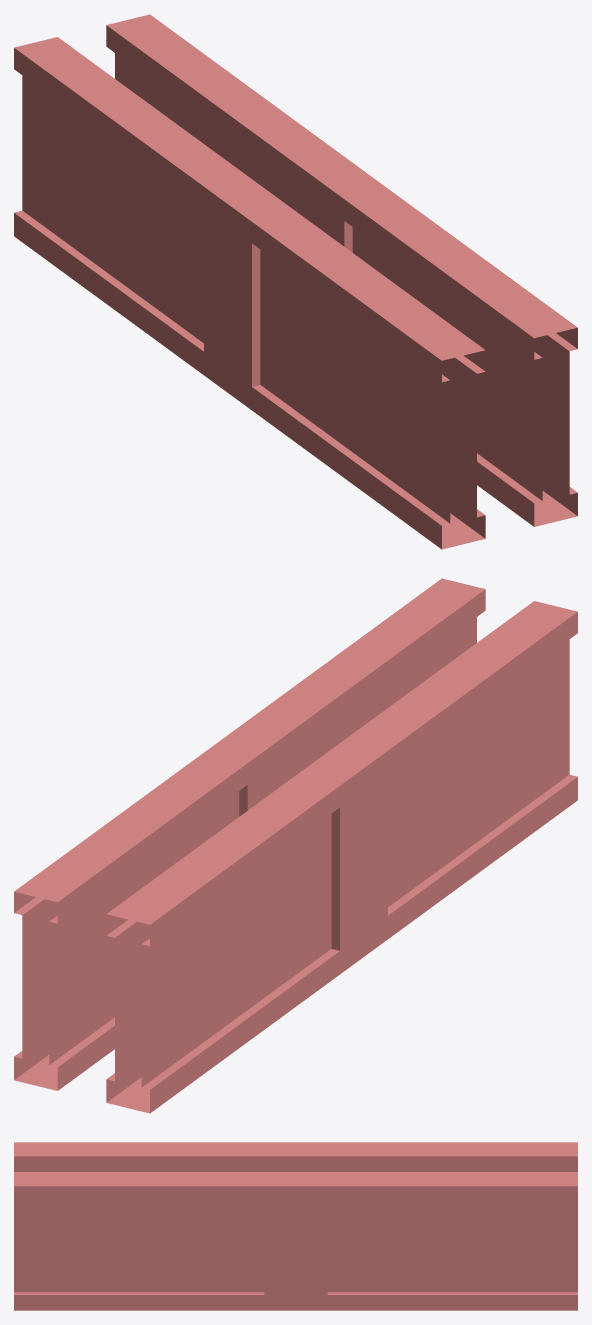
Rendered from Generator_Beam.fbx.
3 renders of one model, top to bottom at view 1: azimuth 30°, elevation 25°; view 2: azimuth 150°, elevation 25°; view 3: azimuth 270°, elevation 25°, orthographic. The views are drawn at different scales.
Visible parts, largest first — view 1: Generator_Beam_2; view 2: Generator_Beam_2; view 3: Generator_Beam_2.
Part boxes in pixels (x1=…): Generator_Beam_2: x1=14, y1=14, x2=577, y2=549; Generator_Beam_2: x1=14, y1=578, x2=577, y2=1113; Generator_Beam_2: x1=14, y1=1142, x2=577, y2=1310.
Bounding box in the file's own units: 30.61 × 40.57 × 167.
